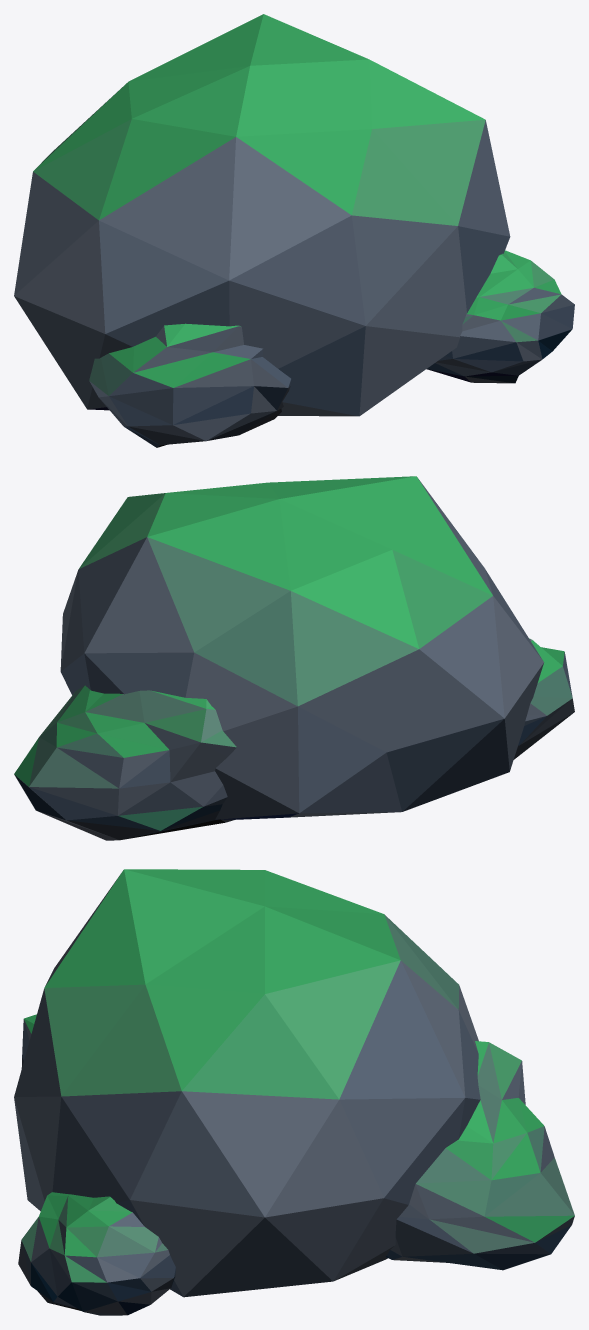
File: batu_boulder_granite_679874.glb
The picture shows the model from 3 angles, top to bottom: view 1: azimuth 30°, elevation 25°; view 2: azimuth 150°, elevation 25°; view 3: azimuth 270°, elevation 25°; orthographic projection. The views are drawn at different scales.
Parts seen in each view (by area): view 1: Batu_Jeram_Sungai; view 2: Batu_Jeram_Sungai; view 3: Batu_Jeram_Sungai.
Part boxes in pixels (left/top/right/bottom): Batu_Jeram_Sungai: left=14, top=14, right=574, bottom=447; Batu_Jeram_Sungai: left=14, top=476, right=574, bottom=840; Batu_Jeram_Sungai: left=14, top=869, right=574, bottom=1315.
Size of the model in its own units: 5.5 by 3.31 by 5.22.
